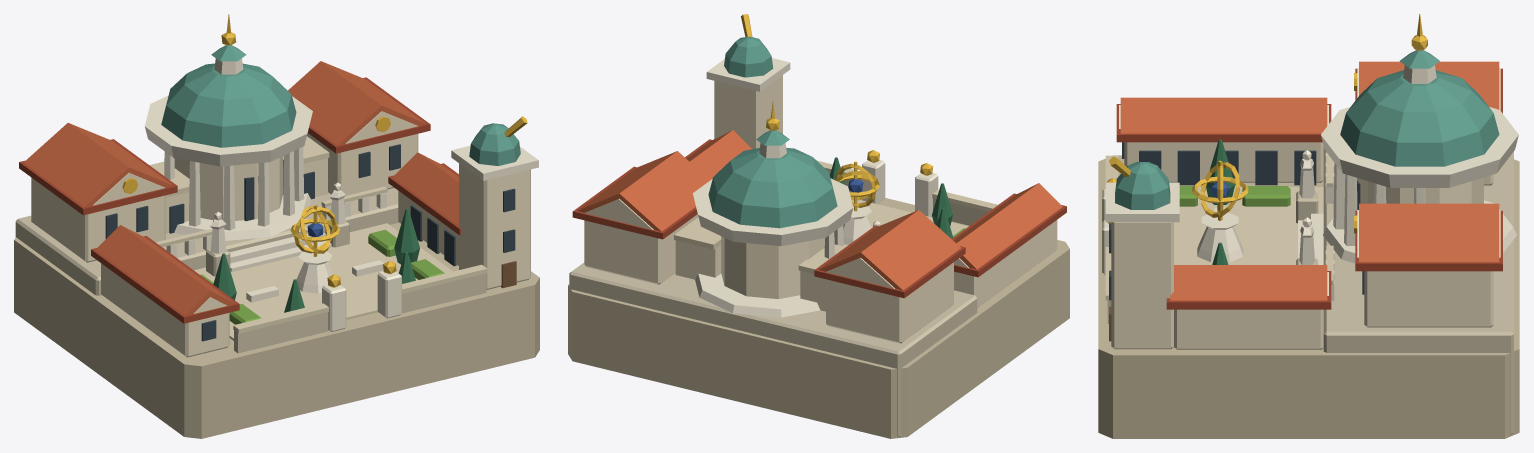
Rendered from ns-academy.glb.
3 renders of one model, left to right at view 1: azimuth 30°, elevation 25°; view 2: azimuth 150°, elevation 25°; view 3: azimuth 270°, elevation 25°, orthographic. The views are drawn at different scales.
Parts seen in each view (by area): view 1: GW prism, GW solid.005, Cube.044, Cube, GW gable, Cube.001, GW gable.001, Cube.017, GW gable.002, GW solid.004, Cube.031, GW solid.003 (+30 smaller); view 2: GW prism, Cube.001, GW solid.005, Cube.017, GW gable, GW gable.001, GW solid.003, Cube.024, GW gable.002, GW solid.004, Cube.044, Cube.031 (+18 smaller); view 3: GW prism, GW solid.005, Cube.001, GW gable.001, Cube.044, GW gable.002, Cube.024, Cube.038, Cube, GW gable.003, GW solid.004, Cube.031 (+24 smaller).
Boxes of the visible parts, left/top/right/bottom form: GW prism: left=14, top=222, right=539, bottom=438; GW solid.005: left=161, top=63, right=296, bottom=147; Cube.044: left=459, top=163, right=530, bottom=289; Cube: left=194, top=223, right=452, bottom=340; GW gable: left=24, top=123, right=172, bottom=206; Cube.001: left=15, top=188, right=398, bottom=295; GW gable.001: left=288, top=61, right=425, bottom=145; Cube.017: left=31, top=177, right=165, bottom=262; GW gable.002: left=95, top=225, right=234, bottom=315; GW solid.004: left=144, top=95, right=312, bottom=166; Cube.031: left=101, top=263, right=229, bottom=357; GW solid.003: left=174, top=156, right=283, bottom=220; GW prism: left=568, top=198, right=1069, bottom=438; Cube.001: left=569, top=262, right=977, bottom=436; GW solid.005: left=708, top=147, right=837, bottom=228; Cube.017: left=826, top=262, right=953, bottom=343; GW gable: left=818, top=210, right=960, bottom=290; GW gable.001: left=577, top=151, right=710, bottom=231; GW solid.003: left=721, top=236, right=824, bottom=299; Cube.024: left=584, top=214, right=698, bottom=284; GW gable.002: left=953, top=183, right=1062, bottom=269; GW solid.004: left=693, top=178, right=853, bottom=246; Cube.044: left=714, top=75, right=782, bottom=148; Cube.031: left=954, top=220, right=1057, bottom=307; GW prism: left=1098, top=155, right=1519, bottom=438; GW solid.005: left=1340, top=70, right=1499, bottom=166; Cube.001: left=1323, top=147, right=1513, bottom=434; GW gable.001: left=1359, top=203, right=1499, bottom=262; Cube.044: left=1111, top=222, right=1173, bottom=349; GW gable.002: left=1120, top=97, right=1327, bottom=133; Cube.024: left=1364, top=271, right=1493, bottom=327; Cube.038: left=1174, top=309, right=1323, bottom=349; Cube: left=1174, top=187, right=1323, bottom=264; GW gable.003: left=1170, top=265, right=1327, bottom=300; GW solid.004: left=1321, top=107, right=1518, bottom=187; Cube.031: left=1124, top=142, right=1323, bottom=182.
Size of the model in its own units: 1.28 by 0.97 by 1.14.
